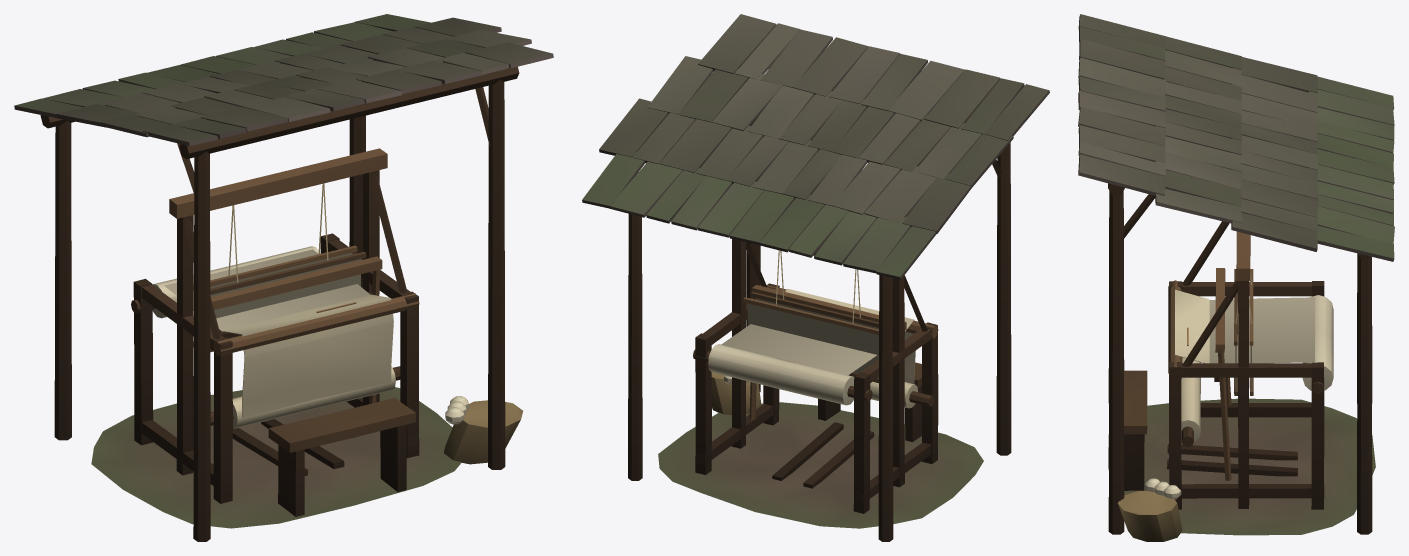
File: ph_bld_loom.glb
The picture shows the model from 3 angles, left to right: view 1: azimuth 30°, elevation 25°; view 2: azimuth 150°, elevation 25°; view 3: azimuth 270°, elevation 25°; orthographic projection. The views are drawn at different scales.
Visible parts, largest first — view 1: ph_bld_loom; view 2: ph_bld_loom; view 3: ph_bld_loom.
Boxes of the visible parts, x1,y1,x2,y2 form: ph_bld_loom: [14, 14, 553, 541]; ph_bld_loom: [582, 14, 1049, 541]; ph_bld_loom: [1078, 14, 1394, 541].
Bounding box in the file's own units: 2.64 × 2.67 × 2.04.
